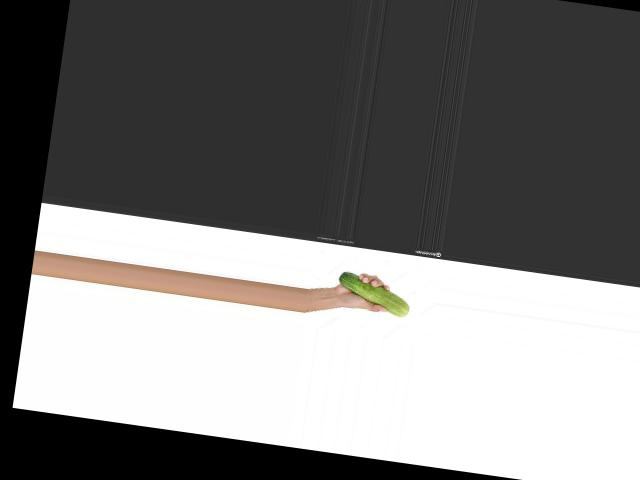cucumber: (334, 270, 412, 318)
